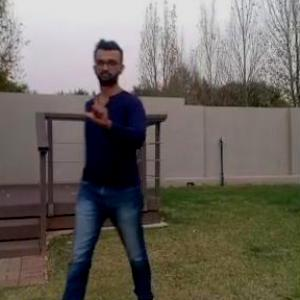land_hand: (80, 80, 113, 127)
